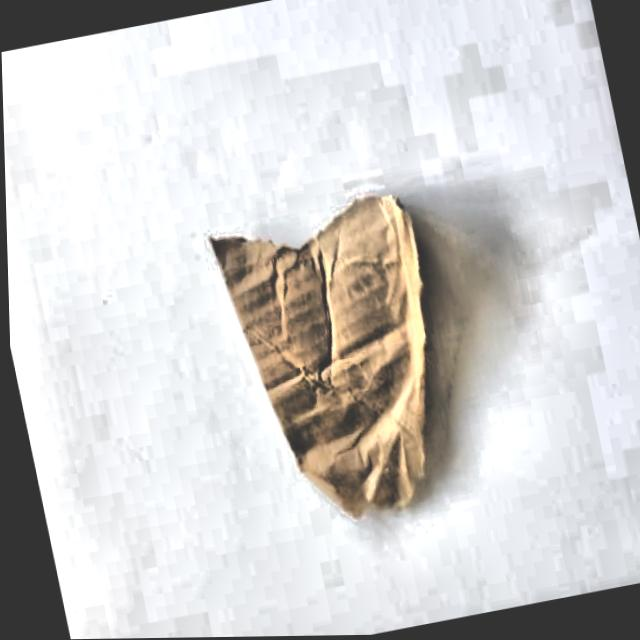Cardbox: (145, 153, 492, 572)
